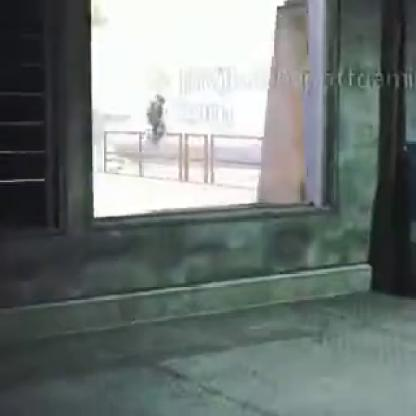enemy: (146, 92, 170, 146)
